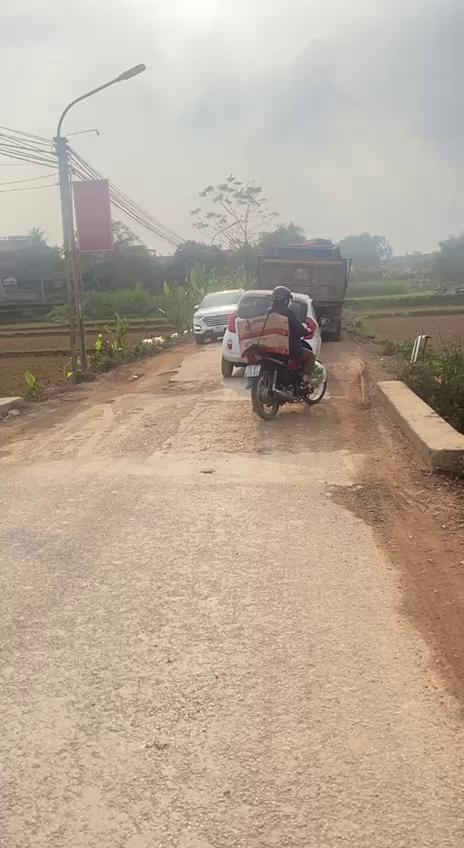pothole: (132, 369, 226, 399)
